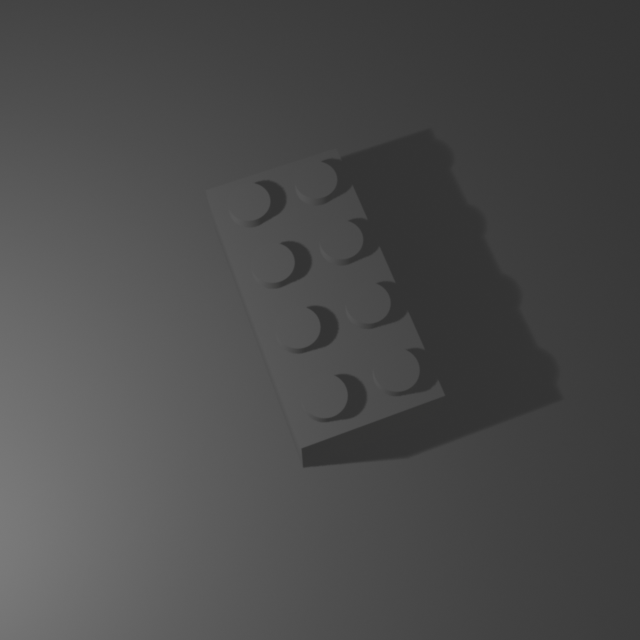lego_2x4: (204, 141, 447, 468)
